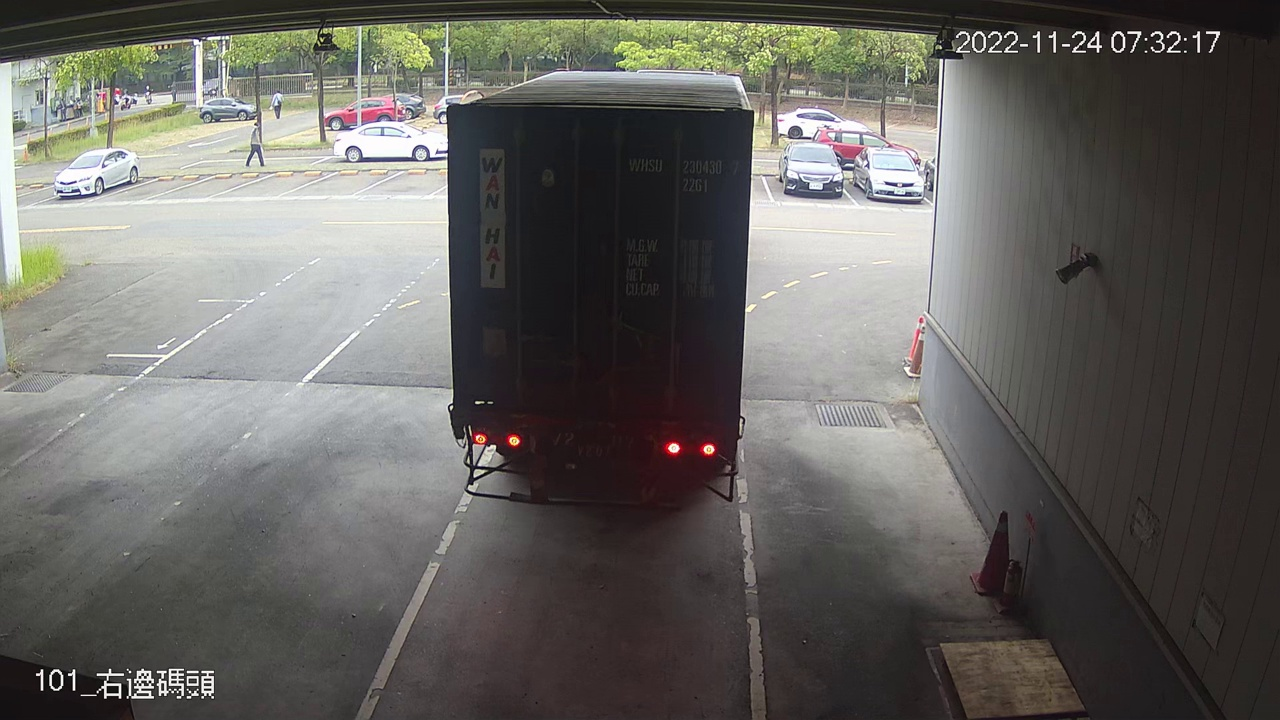container: (621, 150, 746, 200)
